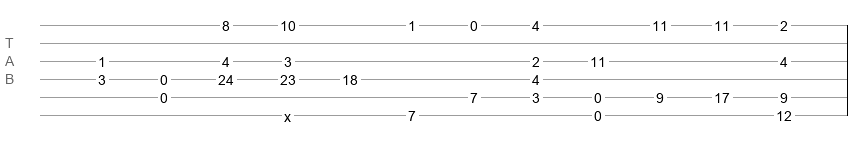0: (160, 90, 168, 100), (160, 72, 168, 82), (470, 18, 478, 28), (594, 90, 602, 100), (594, 108, 602, 118)
1: (98, 54, 106, 64), (408, 18, 416, 28)
10: (280, 18, 296, 28)
11: (590, 54, 606, 64), (652, 18, 668, 28), (714, 18, 730, 28)
12: (776, 108, 792, 118)
17: (714, 90, 730, 100)
18: (342, 72, 358, 82)
2: (532, 54, 540, 64), (780, 18, 788, 28)
23: (280, 72, 296, 82)
24: (218, 72, 234, 82)
3: (98, 72, 106, 82), (284, 54, 292, 64), (532, 90, 540, 100)
4: (222, 54, 230, 64), (532, 18, 540, 28), (532, 72, 540, 82), (780, 54, 788, 64)
7: (408, 108, 416, 118), (470, 90, 478, 100)
8: (222, 18, 230, 28)
9: (656, 90, 664, 100), (780, 90, 788, 100)
x: (284, 109, 291, 117)
